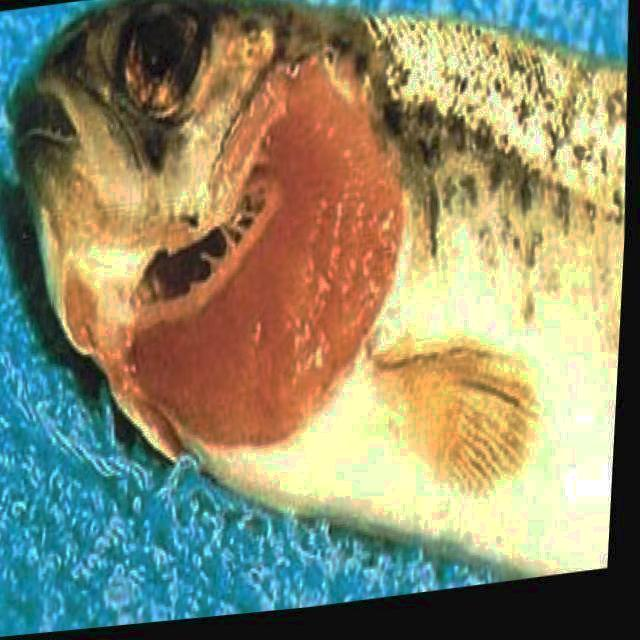Flavobacterium -Bacterial Gill Disease-: (11, 0, 626, 575), (11, 0, 625, 575), (11, 0, 624, 575)
